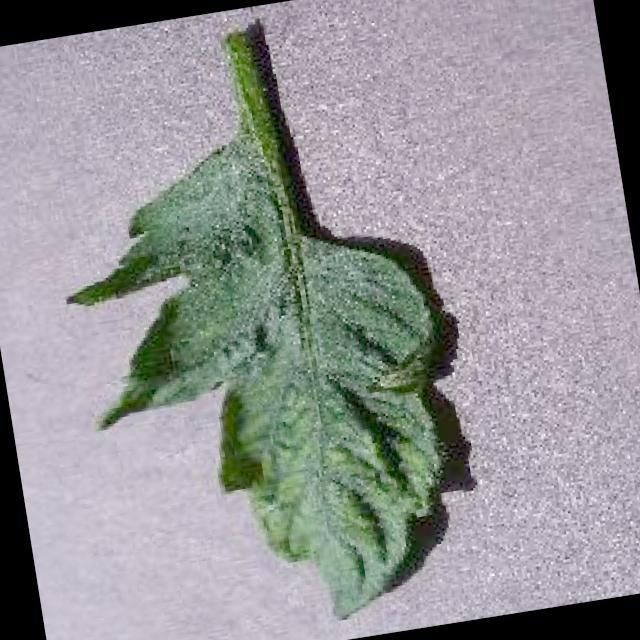Tomato mosaic virus leaf: (42, 98, 491, 640)
